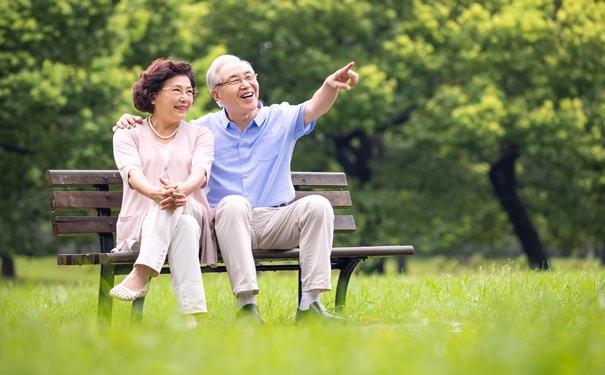sitting: (200, 50, 347, 327), (103, 59, 217, 335)
